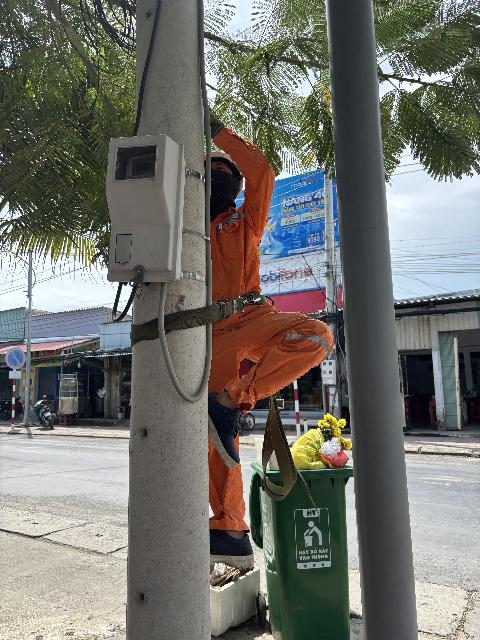harness: (137, 294, 292, 324)
helmet: (201, 147, 254, 190)
shoes: (183, 382, 269, 468), (189, 520, 262, 571)
